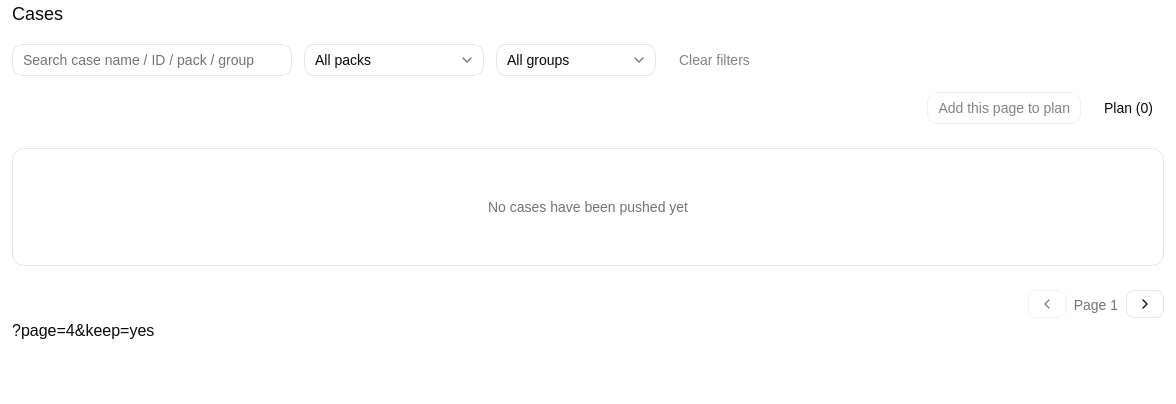
resets cases searches to page one without requests for the previous page
Check: the text "No cases have been pushed yet" is shown, box [488, 197, 688, 217]
Step 1. Click the 2nd button named "Next" → [1145, 304], box [1126, 290, 1164, 318]
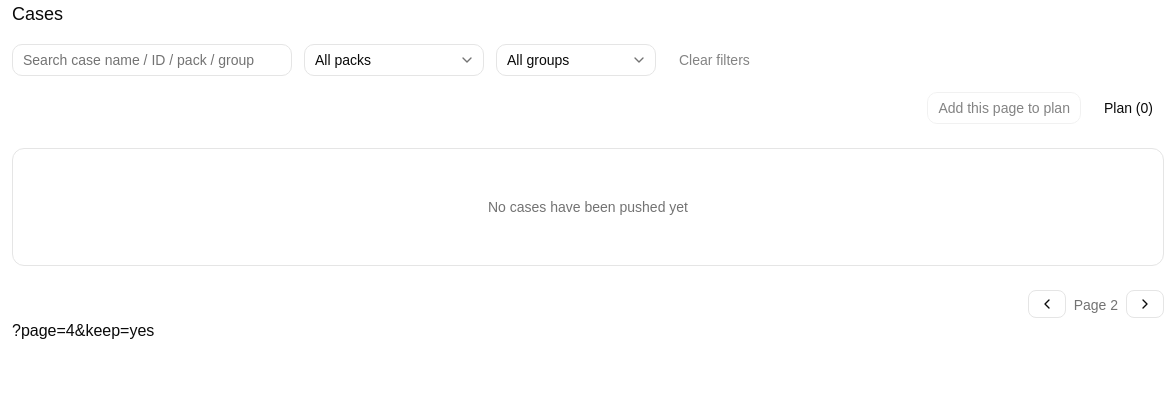
Check: the text with test id "location" reads "?page=4&keep=yes", box [12, 322, 154, 339]
Step 2. Type "x" into the field labelled "Search case name / ID / pack / group" → [152, 60], box [12, 44, 292, 76]
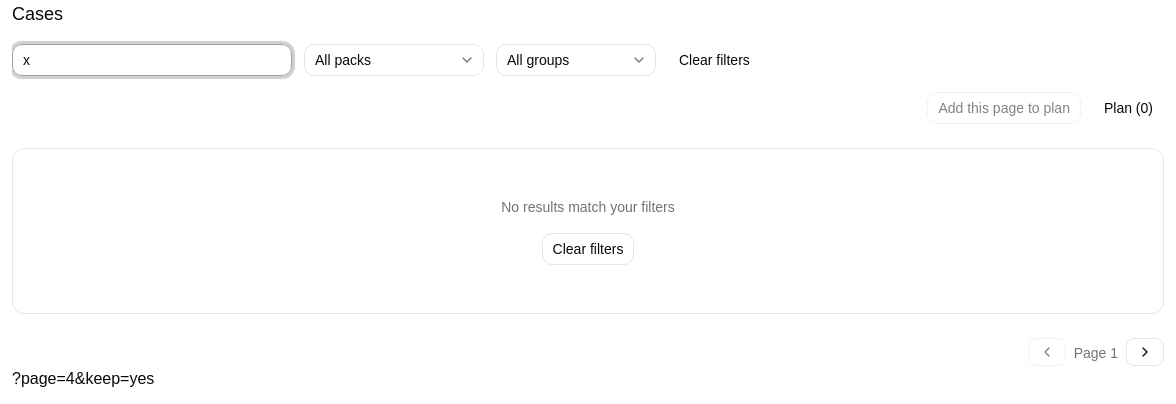
Check: the text with test id "location" reads "?page=4&keep=yes", box [12, 370, 154, 387]
Check: the text "No results match your filters" is shown, box [501, 197, 675, 217]
Step 3. Click the 1st button "Clear filters" → [714, 60], box [668, 44, 761, 76]
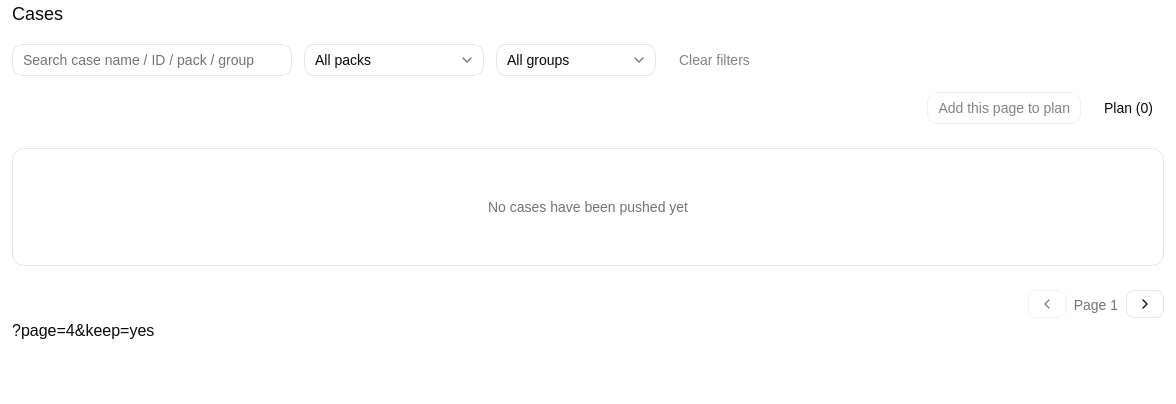
Check: the text "No cases have been pushed yet" is shown, box [488, 197, 688, 217]
Check: the field is empty, box [12, 44, 292, 76]
